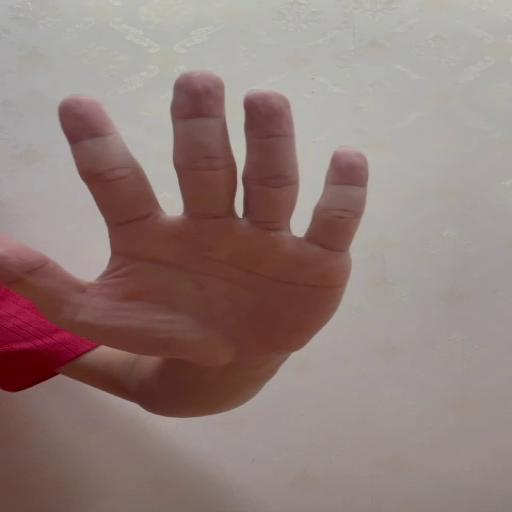open_palm: (0, 69, 371, 366)
